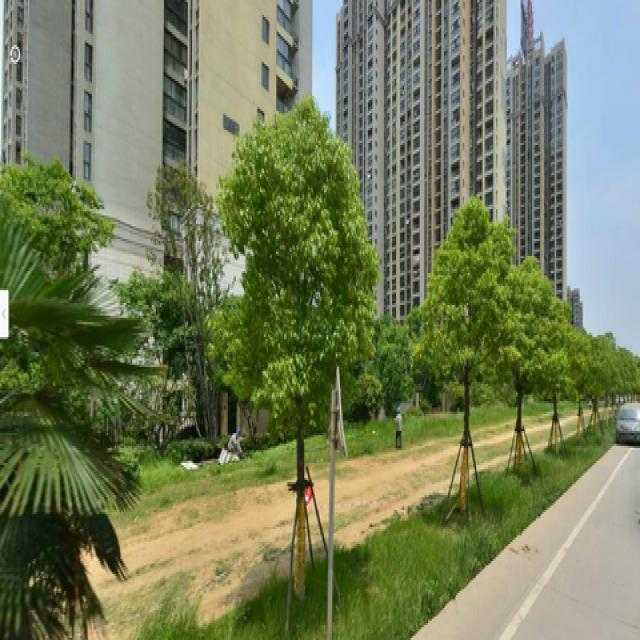cinn: (222, 121, 366, 586)
